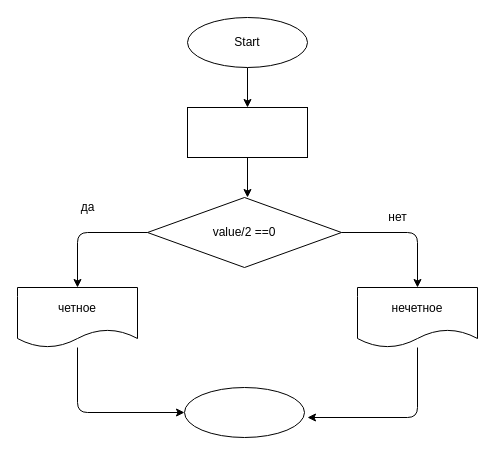
Some shapes in this 495 by 455 pixel diagram are drawn without their labels. Each missing label, with the centre of its shape:
"End" belongs at (x=244, y=412).
"value = 4" belongs at (x=247, y=132).
